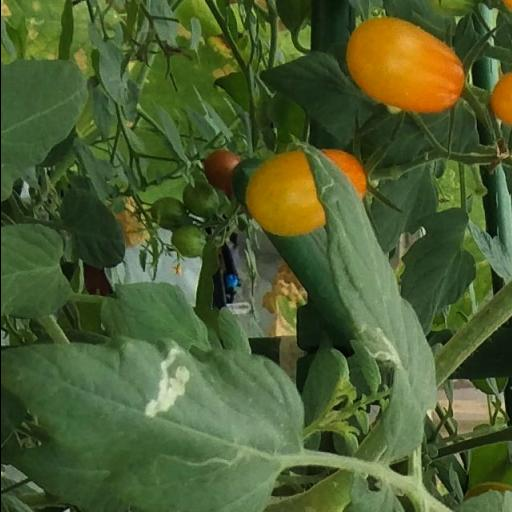Leaf Miner: (0, 338, 304, 512)
